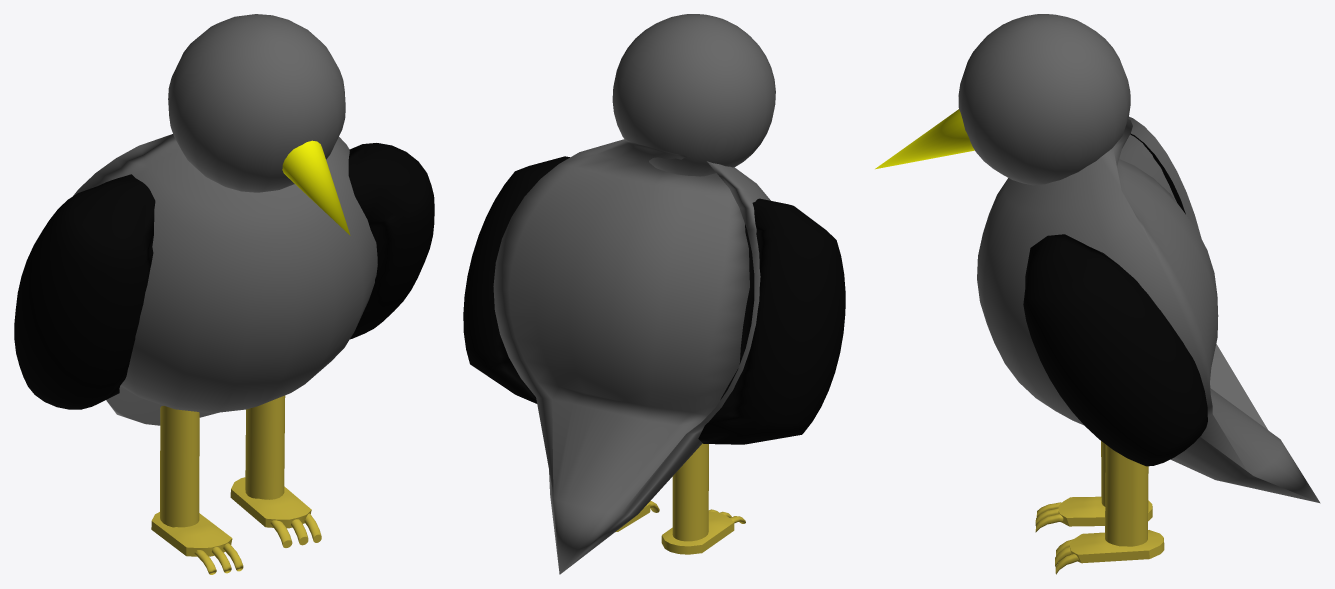
File: Bird.fbx
3 renders of one model, left to right at view 1: azimuth 30°, elevation 25°; view 2: azimuth 150°, elevation 25°; view 3: azimuth 270°, elevation 25°, orthographic. The views are drawn at different scales.
Visible parts, largest first — view 1: pSphere1, pSphere3, pSphere4, pSphere2, pCylinder1, pCylinder8, pCone1, pCube2, pCube1; view 2: pSphere1, pSphere3, pSphere4, pSphere2, pCylinder1, pCube1; view 3: pSphere1, pSphere2, pSphere4, pCylinder8, pCone1, pCube2, pCube1.
Boxes of the visible parts, left/top/right/bottom form: pSphere1: left=73, top=134, right=377, bottom=425; pSphere3: left=14, top=174, right=155, bottom=409; pSphere4: left=168, top=14, right=345, bottom=192; pSphere2: left=348, top=143, right=434, bottom=339; pCylinder1: left=160, top=406, right=199, bottom=527; pCylinder8: left=245, top=395, right=285, bottom=499; pCone1: left=282, top=140, right=350, bottom=235; pCube2: left=230, top=477, right=311, bottom=528; pCube1: left=151, top=512, right=232, bottom=556; pSphere1: left=493, top=139, right=770, bottom=574; pSphere3: left=698, top=198, right=845, bottom=444; pSphere4: left=612, top=14, right=775, bottom=176; pSphere2: left=463, top=156, right=569, bottom=403; pCylinder1: left=672, top=443, right=708, bottom=541; pCube1: left=661, top=511, right=734, bottom=554; pSphere1: left=977, top=116, right=1320, bottom=503; pSphere2: left=1023, top=234, right=1207, bottom=466; pSphere4: left=958, top=14, right=1130, bottom=185; pCylinder8: left=1105, top=444, right=1148, bottom=546; pCone1: left=875, top=109, right=974, bottom=169; pCube2: left=1070, top=530, right=1164, bottom=563; pCube1: left=1058, top=496, right=1152, bottom=526.
Bounding box in the file's own units: 3.59 × 4.76 × 3.7.
